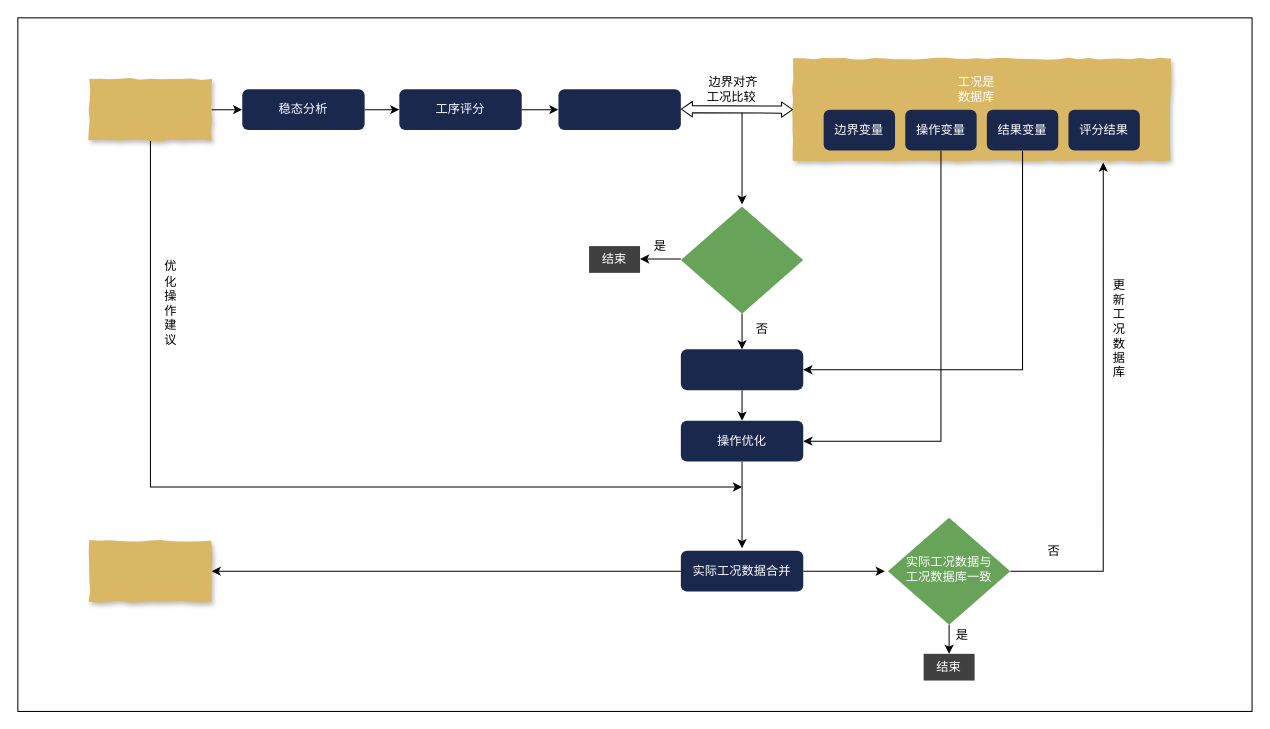
The diagram is 1270 pixels wide and 729 high, and some of its shapes have lost their labels. The shapes that lost their labels are listed below. From the top down, each one's centre as x and y in pixels, then its label:
At (x=151, y=110): "实际工况 实时采集数据".
At (x=619, y=109): "实际工况 结果预测".
At (x=741, y=259): "预测实际工况 是否为当前最优".
At (x=741, y=369): "耗差分析".
At (x=151, y=572): "实际工况 离线数据".
